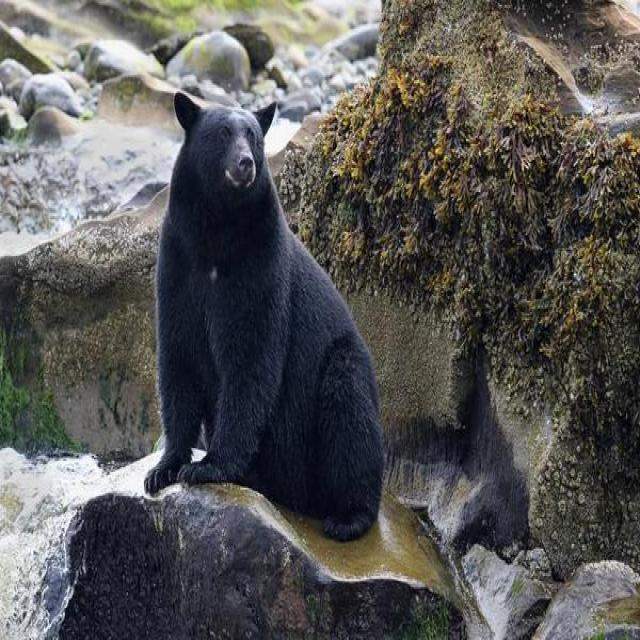Bear: (145, 93, 387, 544)
